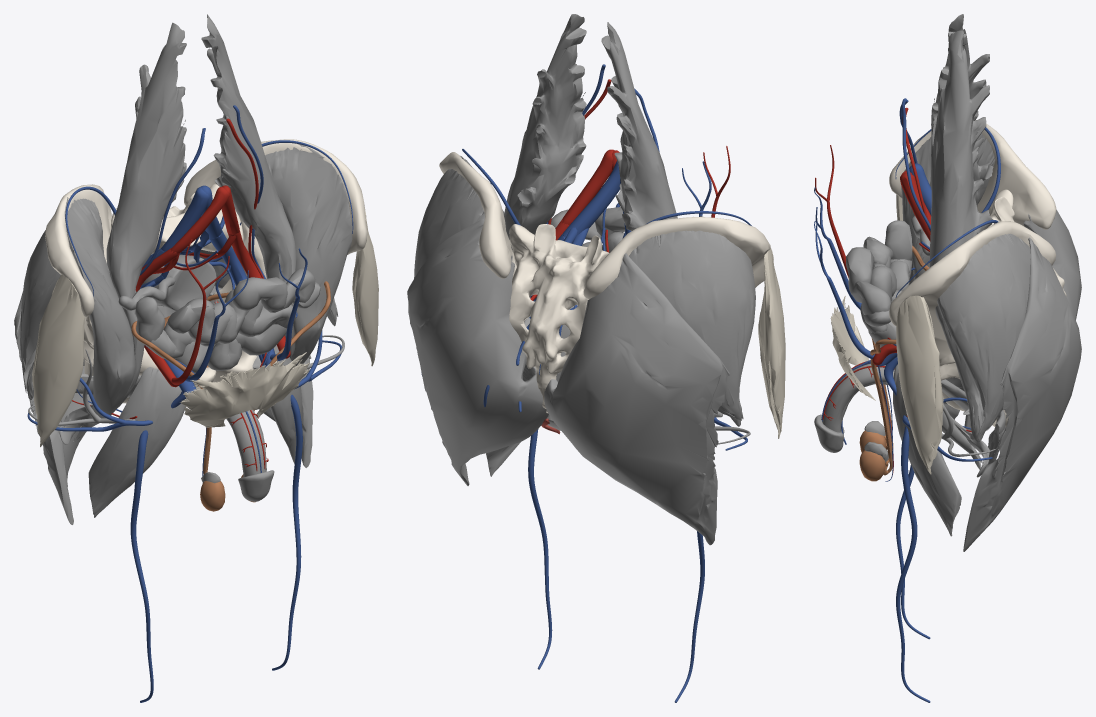
The model's file is pelvis.glb.
3 views of the same model, side by side, from view 1: azimuth 30°, elevation 25°; view 2: azimuth 150°, elevation 25°; view 3: azimuth 270°, elevation 25° (orthographic). The views are drawn at different scales.
Visible parts, largest first — view 1: right psoas major, left iliacus, left psoas major, right iliacus, right pectineus, right tensor fasciae latae, skin appendage.001, right hip bone, left hip bone, right gluteus medius, left tensor fasciae latae, right gluteus maximus (+31 smaller); view 2: right gluteus maximus, left gluteus maximus, right gluteus medius, sacrum, left psoas major, right psoas major, right hip bone, left gluteus medius, right tensor fasciae latae, left hip bone, left common iliac vein, left deep femoral vein (+3 smaller); view 3: left gluteus maximus, left gluteus medius, left psoas major, left tensor fasciae latae, left hip bone, right hip bone, left pectineus, right gluteus maximus, right psoas major, left deep femoral vein, skin appendage.001, right iliacus (+23 smaller).
Boxes of the visible parts, x1=… form: right psoas major: x1=59, y1=22, x2=186, y2=444; left iliacus: x1=265, y1=144, x2=352, y2=366; left psoas major: x1=201, y1=14, x2=302, y2=386; right iliacus: x1=64, y1=197, x2=135, y2=441; right pectineus: x1=88, y1=367, x2=194, y2=517; right tensor fasciae latae: x1=32, y1=274, x2=84, y2=447; skin appendage.001: x1=180, y1=352, x2=309, y2=427; right hip bone: x1=45, y1=184, x2=216, y2=403; left hip bone: x1=184, y1=139, x2=367, y2=382; right gluteus medius: x1=20, y1=230, x2=60, y2=392; left tensor fasciae latae: x1=352, y1=207, x2=378, y2=366; right gluteus maximus: x1=14, y1=292, x2=85, y2=524; right gluteus maximus: x1=544, y1=253, x2=729, y2=545; left gluteus maximus: x1=407, y1=218, x2=548, y2=485; right gluteus medius: x1=629, y1=230, x2=755, y2=420; sacrum: x1=509, y1=224, x2=609, y2=413; left psoas major: x1=504, y1=14, x2=586, y2=251; right psoas major: x1=601, y1=22, x2=677, y2=230; right hip bone: x1=583, y1=217, x2=773, y2=299; left gluteus medius: x1=414, y1=169, x2=484, y2=278; right tensor fasciae latae: x1=758, y1=248, x2=785, y2=438; left hip bone: x1=439, y1=152, x2=530, y2=320; left common iliac vein: x1=563, y1=161, x2=620, y2=237; left deep femoral vein: x1=528, y1=429, x2=552, y2=669; left gluteus maximus: x1=963, y1=237, x2=1081, y2=551; left gluteus medius: x1=937, y1=233, x2=1030, y2=436; left psoas major: x1=930, y1=30, x2=993, y2=477; left tensor fasciae latae: x1=896, y1=295, x2=943, y2=474; left hip bone: x1=889, y1=221, x2=1055, y2=426; right hip bone: x1=889, y1=120, x2=1056, y2=229; left pectineus: x1=893, y1=364, x2=961, y2=536; right gluteus maximus: x1=964, y1=209, x2=1081, y2=430; right psoas major: x1=913, y1=14, x2=993, y2=280; left deep femoral vein: x1=884, y1=357, x2=930, y2=702; skin appendage.001: x1=830, y1=296, x2=875, y2=400; right iliacus: x1=901, y1=133, x2=995, y2=284.
Size of the model in its own units: 0.3201 by 0.5904 by 0.2209.
